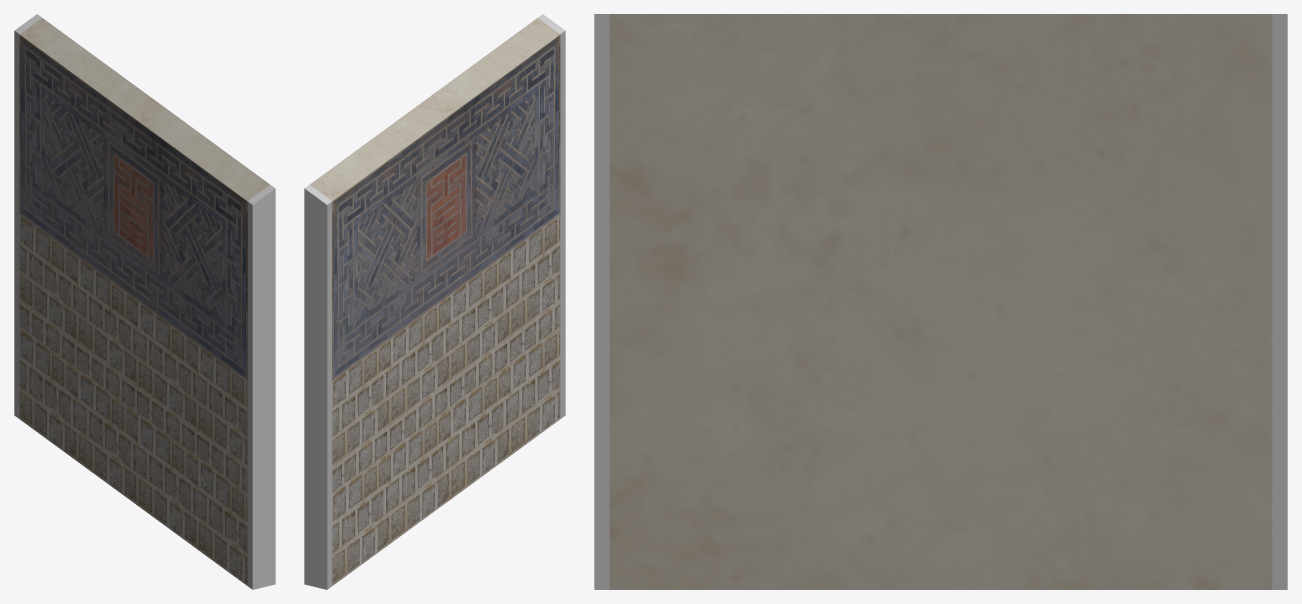
The model's file is SM_StonewallPattern01A.fbx.
3 views of the same model, side by side, from view 1: azimuth 30°, elevation 25°; view 2: azimuth 150°, elevation 25°; view 3: azimuth 270°, elevation 25° (orthographic). The views are drawn at different scales.
Visible parts, largest first — view 1: SM_StonewallPattern01A; view 2: SM_StonewallPattern01A; view 3: SM_StonewallPattern01A.
Part boxes in pixels (x1,y1,x2,y2): SM_StonewallPattern01A: (14, 14, 275, 589); SM_StonewallPattern01A: (304, 14, 565, 589); SM_StonewallPattern01A: (594, 14, 1287, 589).
Bounding box in the file's own units: 17.02 × 309 × 283.
